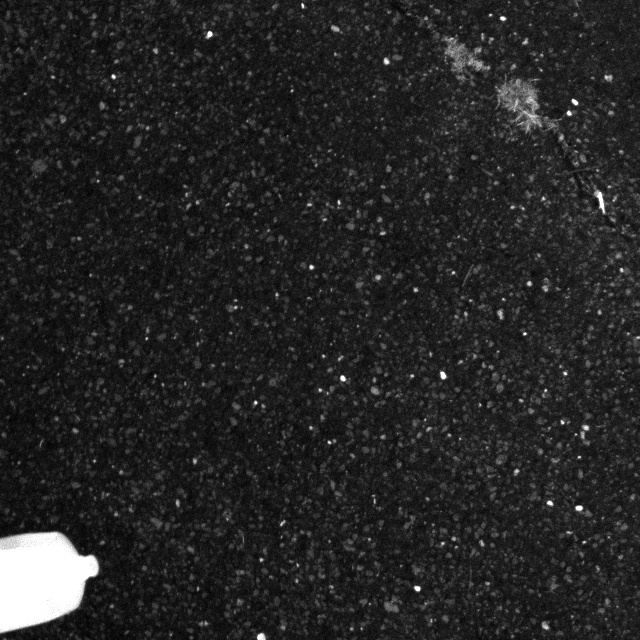can: (0, 518, 113, 640)
